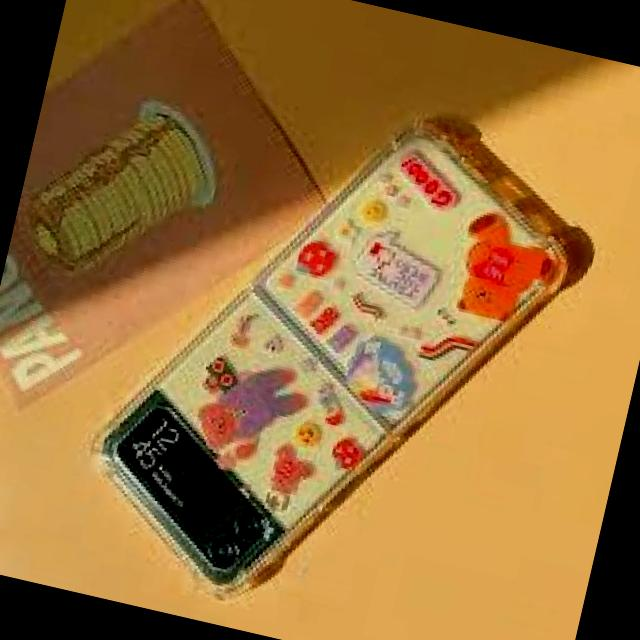lens_back: (228, 500, 274, 546), (199, 528, 241, 574)
phone: (65, 57, 600, 640)
